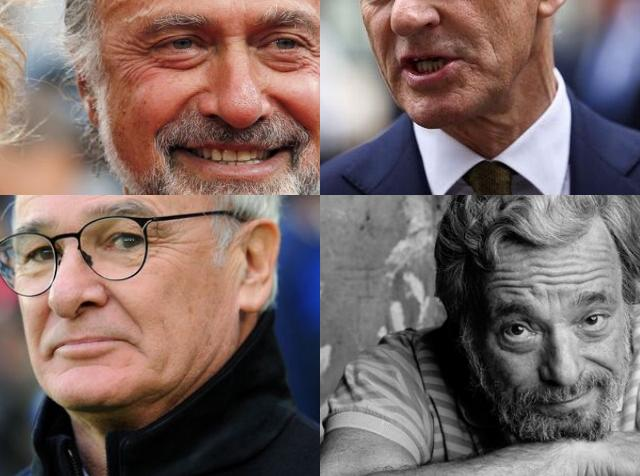chin: (60, 359, 109, 373)
crows_feet: (119, 36, 148, 68), (147, 226, 171, 258), (305, 40, 320, 74)
forehead: (535, 262, 603, 286), (494, 266, 526, 294)
frown_line: (543, 288, 565, 314)
gummy_smile: (108, 285, 140, 325), (175, 82, 203, 112), (580, 352, 616, 374), (272, 93, 302, 119), (35, 299, 51, 342)
masseter: (487, 37, 503, 65)
